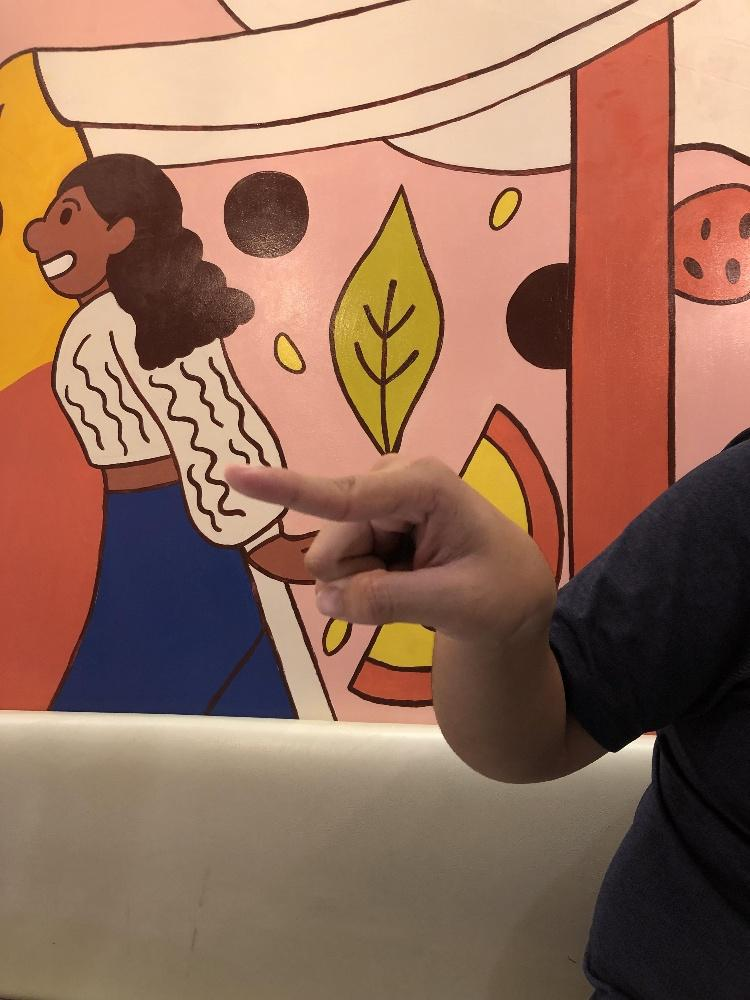z: (221, 449, 557, 642)
